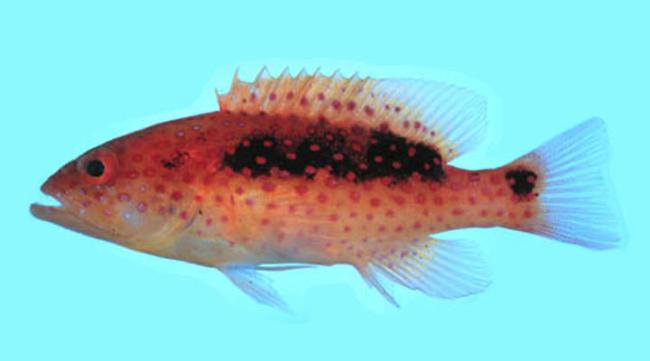fish: (29, 64, 628, 315)
